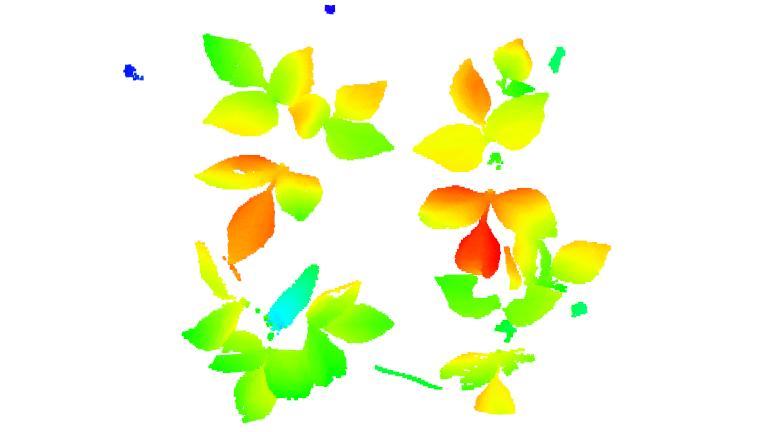mungbean: (191, 29, 393, 267), (177, 238, 404, 422), (438, 232, 620, 417), (424, 35, 557, 272)
